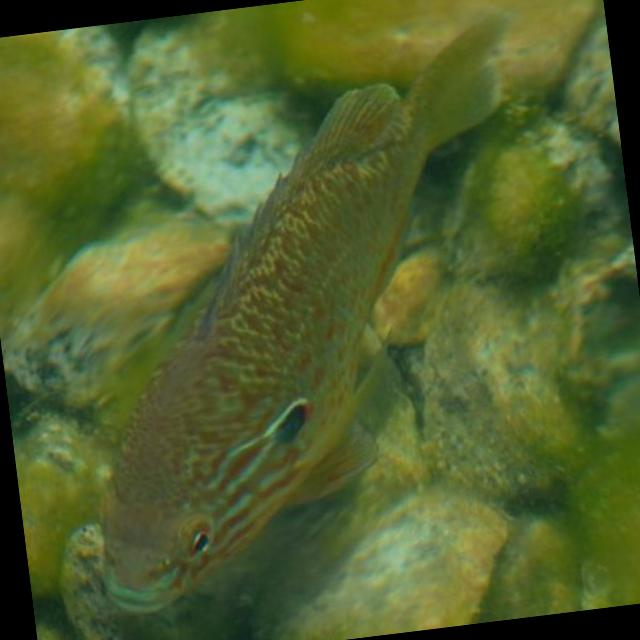Gunes Levregi: (39, 8, 576, 630)
